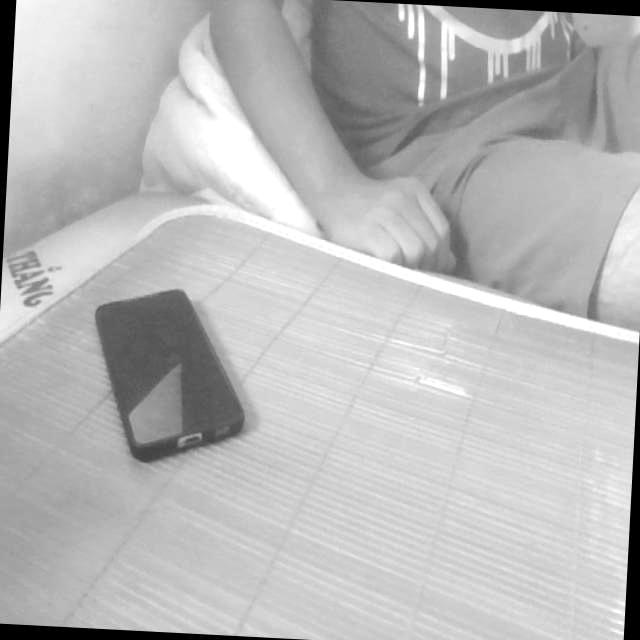phone: (74, 259, 266, 494)
